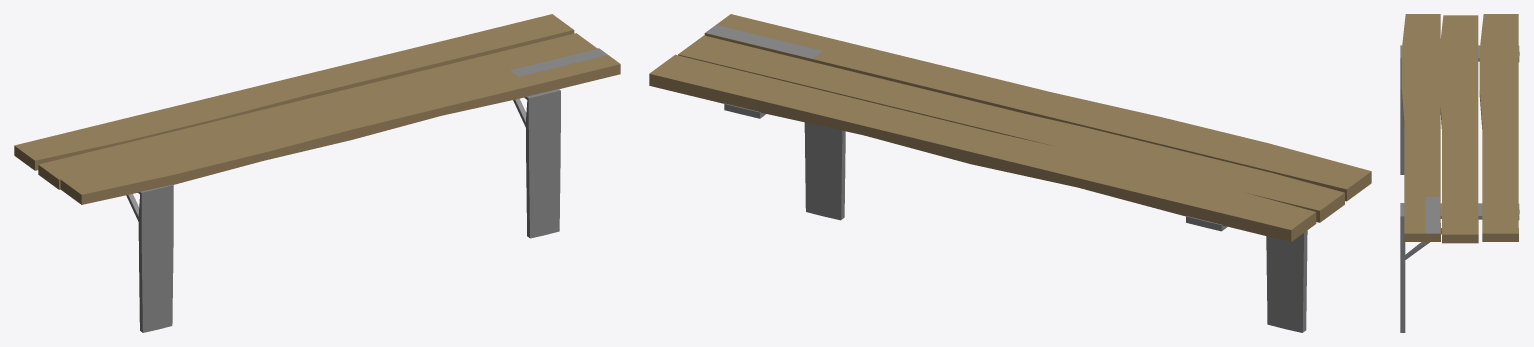
The model's file is M_Repisa.fbx.
3 renders of one model, left to right at view 1: azimuth 30°, elevation 25°; view 2: azimuth 150°, elevation 25°; view 3: azimuth 270°, elevation 25°, orthographic. The views are drawn at different scales.
Visible parts, largest first — view 1: Repisa; view 2: Repisa; view 3: Repisa.
Part boxes in pixels (left/top/right/bottom): Repisa: left=14, top=14, right=620, bottom=332; Repisa: left=649, top=14, right=1371, bottom=332; Repisa: left=1400, top=14, right=1519, bottom=332.
Size of the model in its own units: 36.8 by 9.82 by 8.43.
